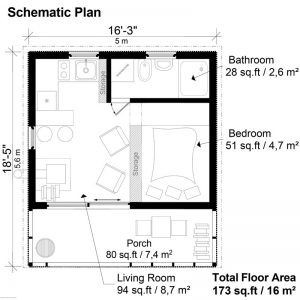door: (110, 101, 131, 119)
room: (40, 57, 209, 203)
wall: (207, 51, 219, 209), (131, 199, 216, 212), (25, 149, 40, 211), (26, 50, 38, 125), (98, 48, 146, 64), (27, 49, 71, 62), (174, 49, 216, 62), (28, 199, 50, 213)
window: (45, 199, 130, 210), (69, 50, 98, 60), (147, 50, 176, 59), (26, 126, 37, 148)
